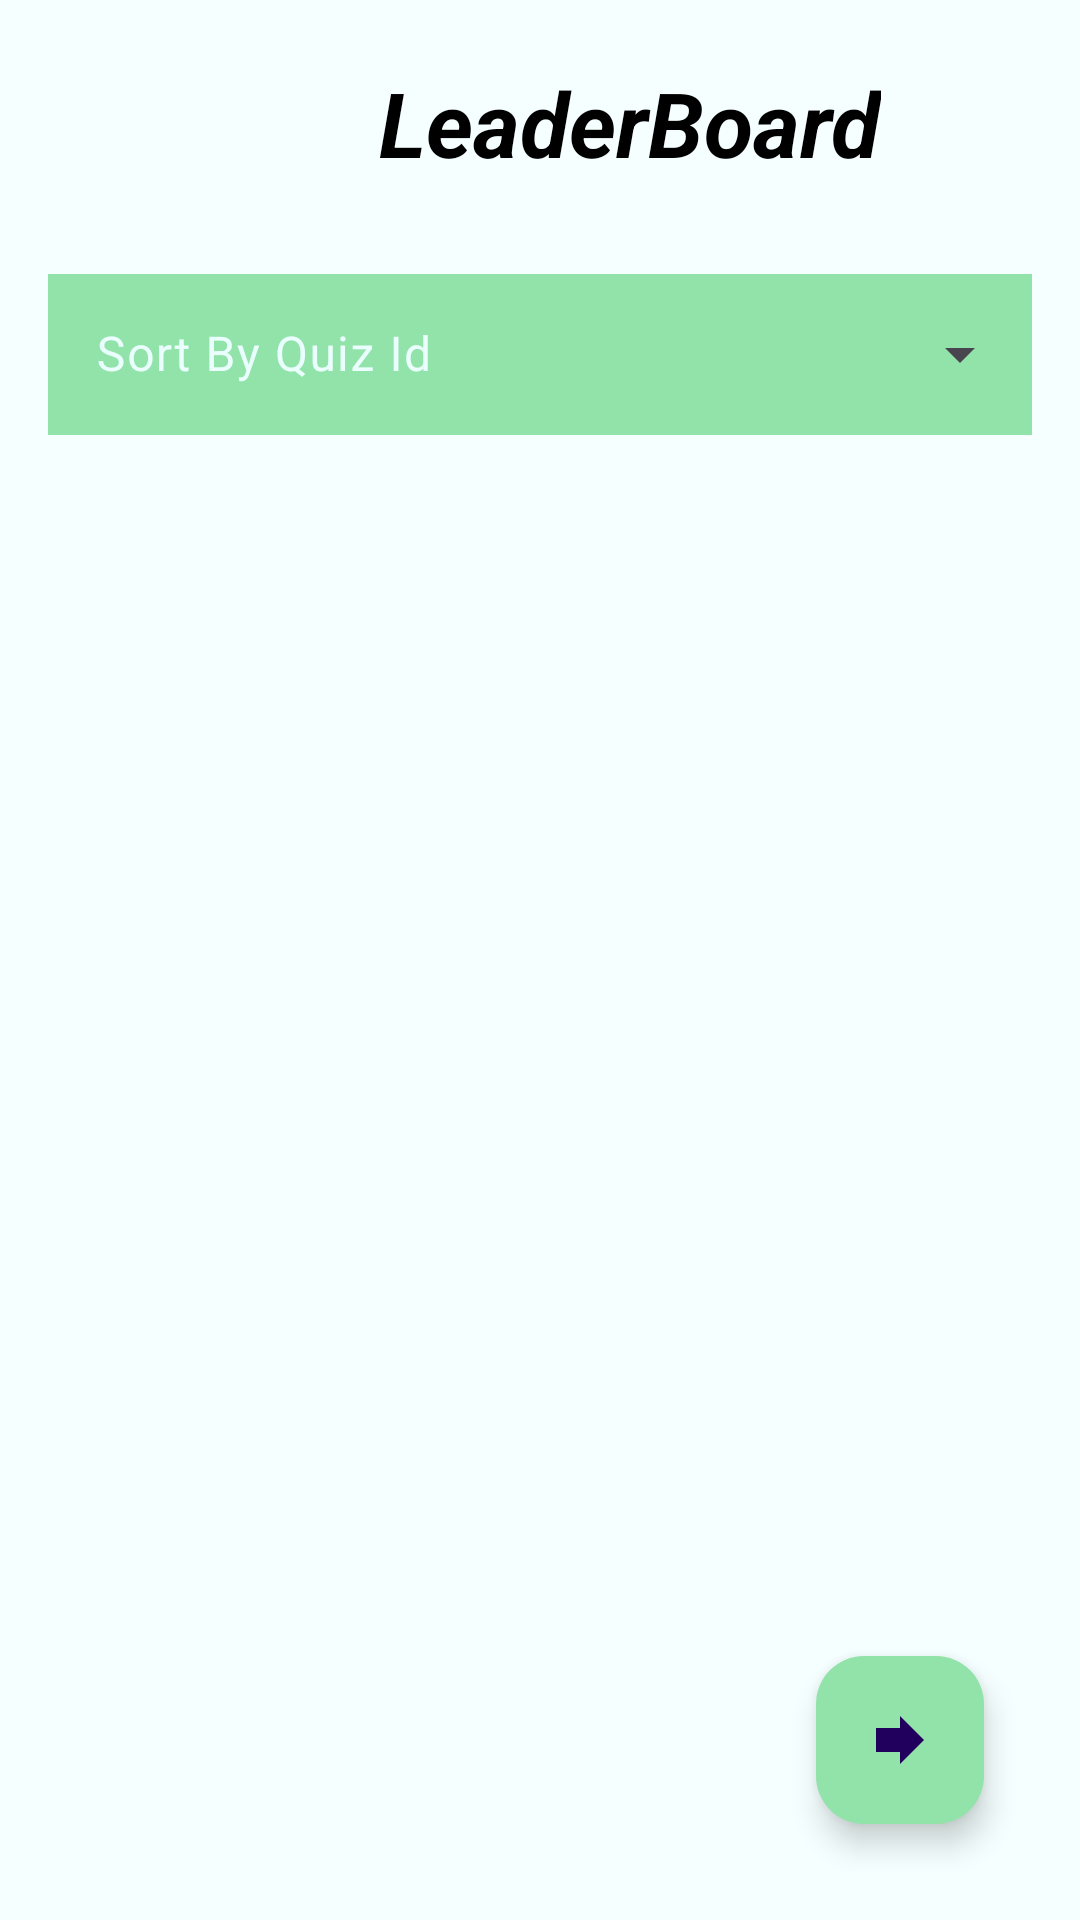

Named icons in this screenshot (1080*1920) and their centers, [x,y]:
forward: [900,1740]
